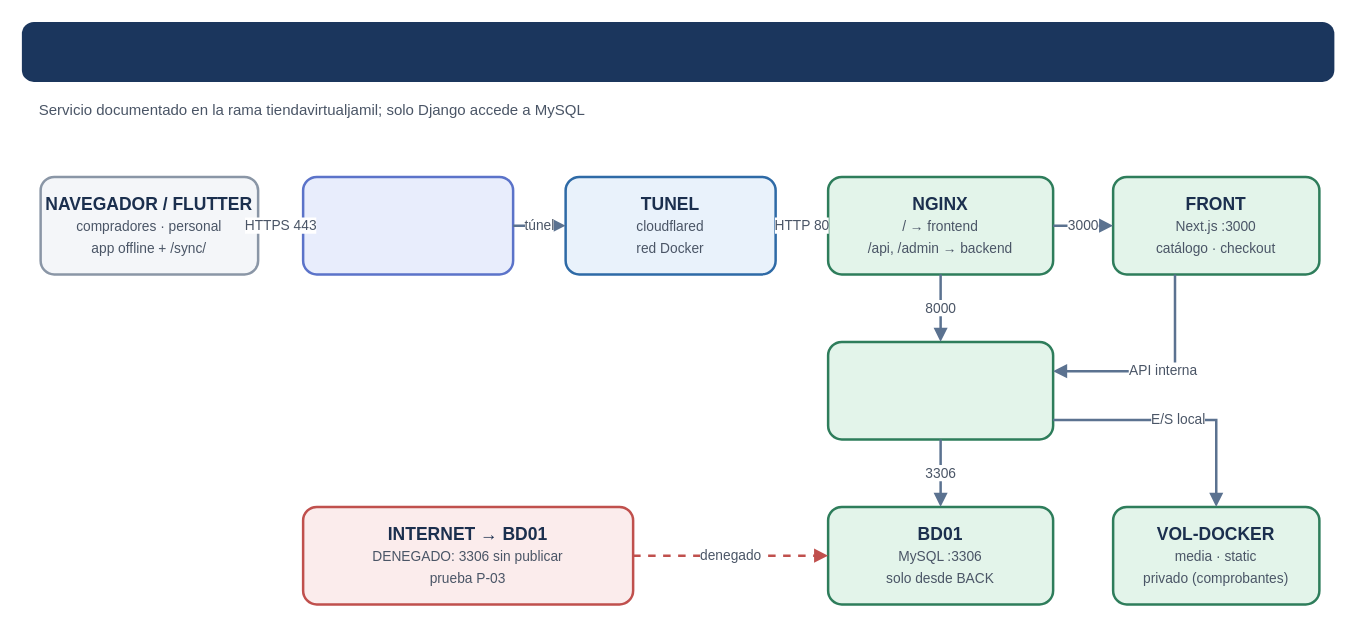
Image size: 1355x626. Some labels were removed from this diagram. The shapes that lost their labels are listed below. From the top down, each one's centre as x and y in pixels, then its label:
At (677,51): "Figura 5.5 | Flujo de información y protocolos".
At (407,225): "CF-EDGE HTTPS 443 TLS termina aquí".
At (940,390): "BACK Django :8000 API · admin · /privado/".
